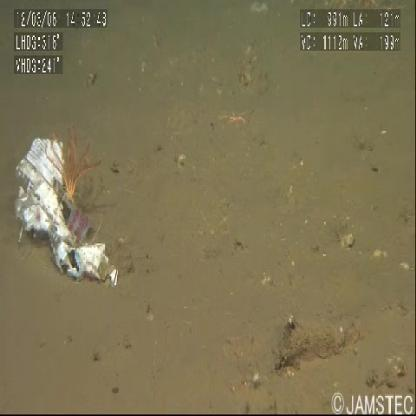Rác: (15, 116, 125, 305)
